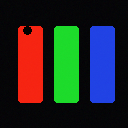0 point: (23, 26, 31, 34)
